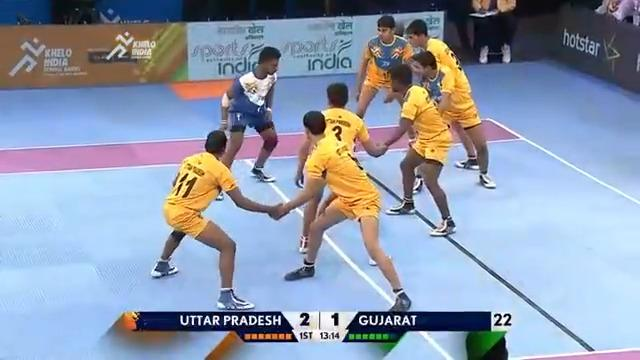Player: (271, 109, 412, 311), (149, 129, 285, 310), (403, 18, 496, 189), (382, 63, 457, 236), (353, 14, 415, 120)
Raider: (214, 45, 281, 200)
referee: (465, 0, 516, 64)
